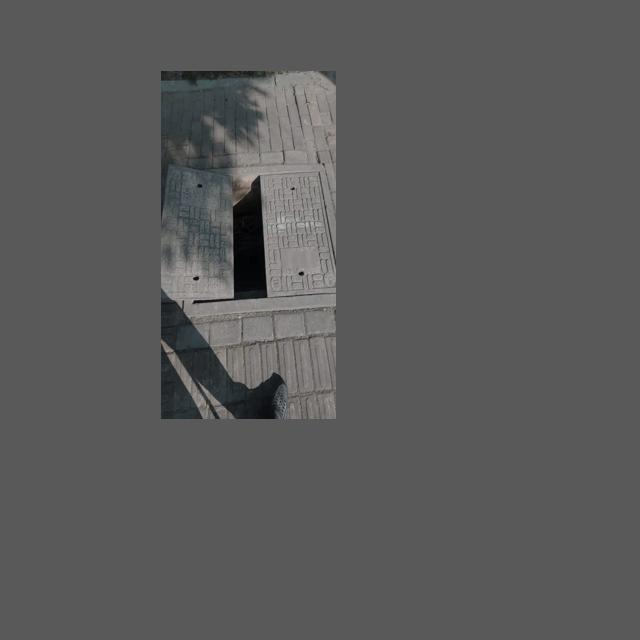uncovered: (164, 156, 319, 315)
